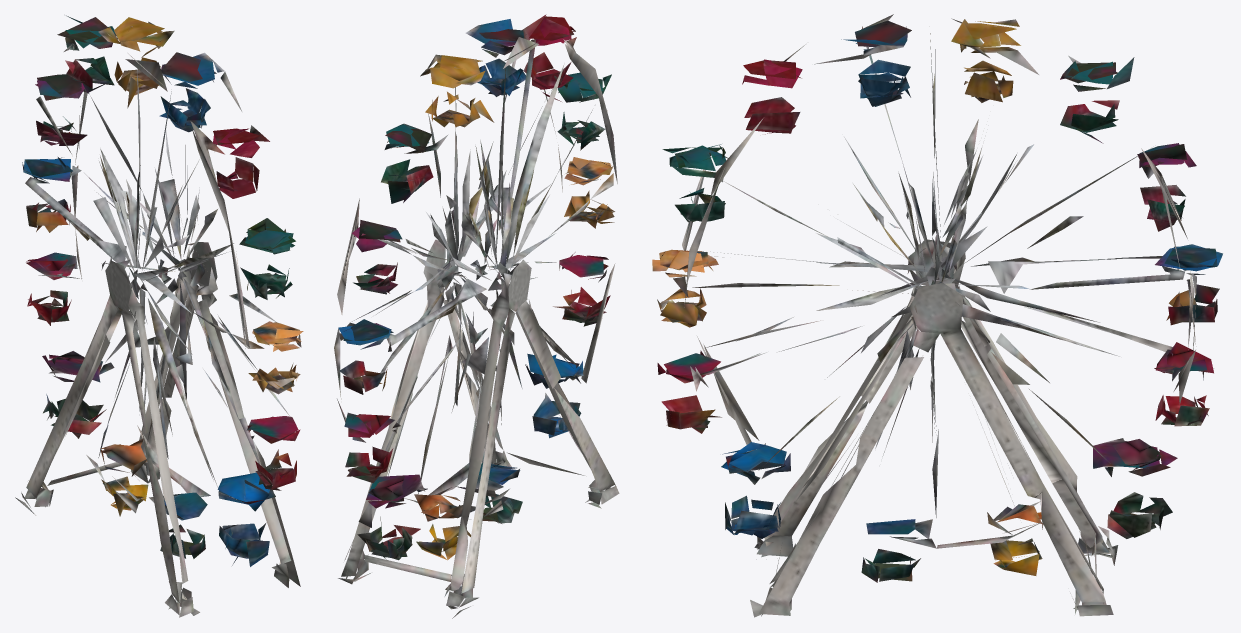
Rendered from jahrmarkt_riesenrad_lo.glb.
The picture shows the model from 3 angles, left to right: view 1: azimuth 30°, elevation 25°; view 2: azimuth 150°, elevation 25°; view 3: azimuth 270°, elevation 25°; orthographic projection. The views are drawn at different scales.
Visible parts, largest first — view 1: Prop; view 2: Prop; view 3: Prop.
Part boxes in pixels (x1,y1,x2,y2): Prop: (15, 15, 303, 617); Prop: (334, 14, 619, 618); Prop: (652, 14, 1222, 617).
Bounding box in the file's own units: 0.2733 × 1.02 × 0.9338.
Materials: 1 (1 with a texture image).
